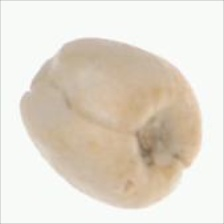L3: (21, 43, 66, 100)
L4: (19, 37, 203, 209)
